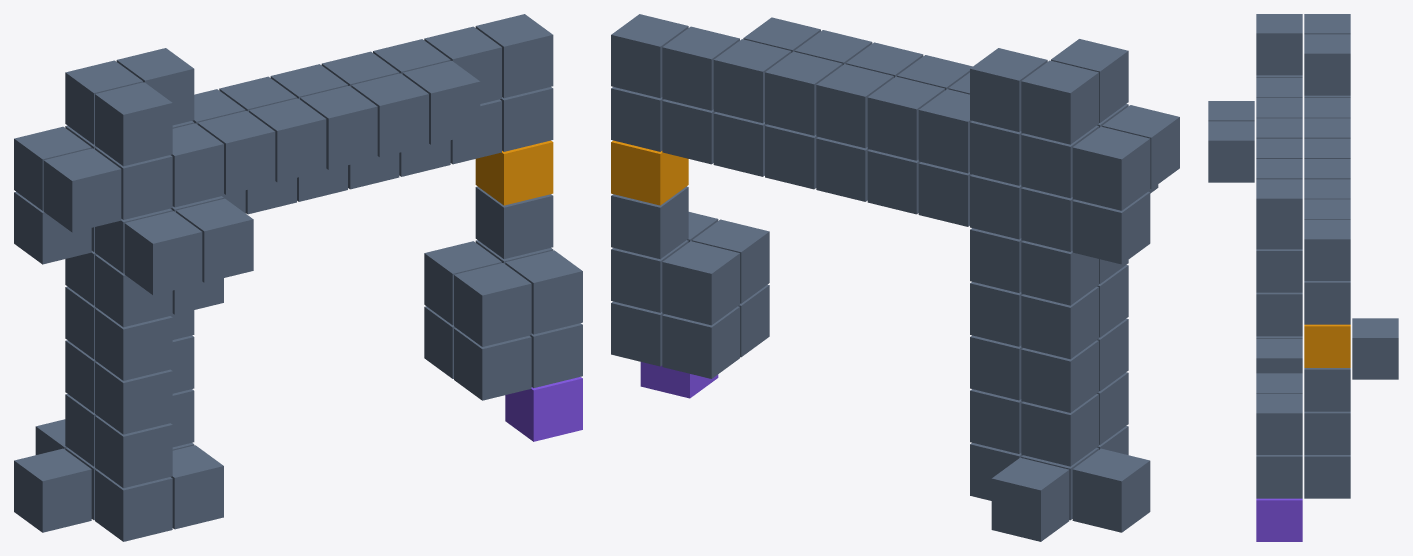
File: stabilized.glb
3 views of the same model, side by side, from view 1: azimuth 30°, elevation 25°; view 2: azimuth 150°, elevation 25°; view 3: azimuth 270°, elevation 25° (orthographic). The views are drawn at different scales.
Visible parts, largest first — view 1: Original blocks, Columns, Footing; view 2: Original blocks, Columns, Footing; view 3: Original blocks, Columns, Footing.
Part boxes in pixels (x1,y1,x2,y2): Original blocks: (14, 14, 582, 541); Columns: (475, 140, 553, 205); Footing: (505, 377, 582, 441); Original blocks: (611, 14, 1179, 541); Columns: (611, 140, 688, 205); Footing: (640, 362, 718, 398); Original blocks: (1208, 14, 1398, 498); Columns: (1304, 324, 1350, 367); Footing: (1256, 498, 1302, 541).
Size of the model in its own units: 0.996 by 0.796 by 0.396.
